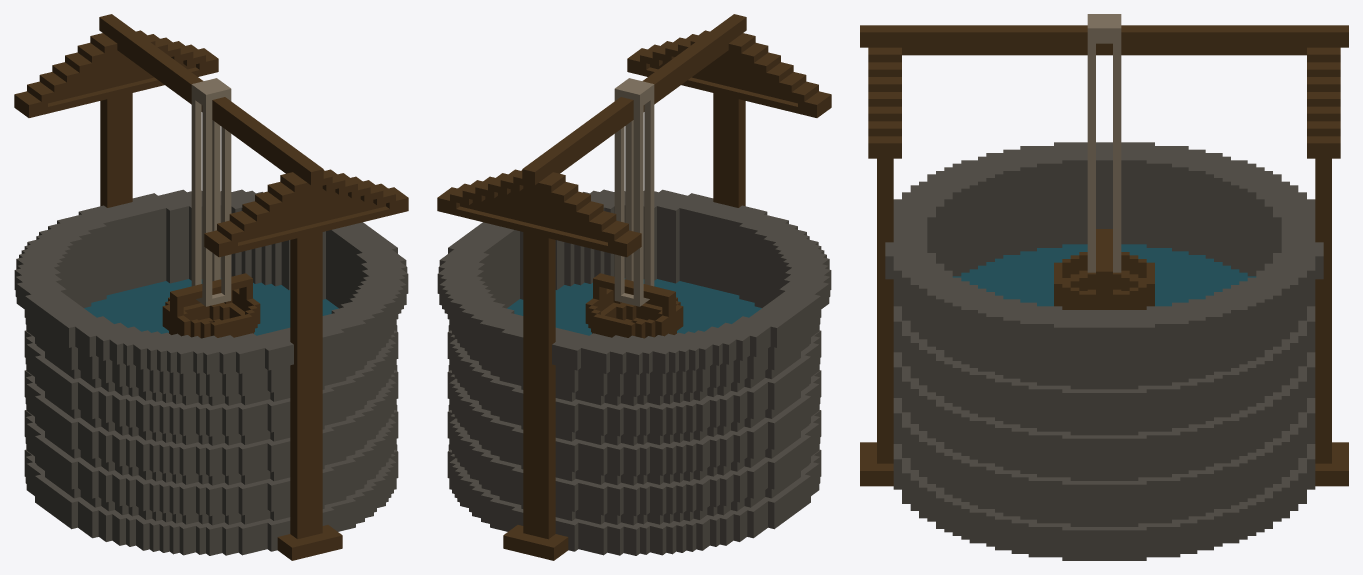
File: Korean_item_07.FBX
3 renders of one model, left to right at view 1: azimuth 30°, elevation 25°; view 2: azimuth 150°, elevation 25°; view 3: azimuth 270°, elevation 25°, orthographic. The views are drawn at different scales.
Visible parts, largest first — view 1: Voxel_Korean_traditional village-17; view 2: Voxel_Korean_traditional village-17; view 3: Voxel_Korean_traditional village-17.
Part boxes in pixels (left/top/right/bottom): Voxel_Korean_traditional village-17: left=14, top=14, right=408, bottom=560; Voxel_Korean_traditional village-17: left=437, top=14, right=831, bottom=560; Voxel_Korean_traditional village-17: left=860, top=14, right=1348, bottom=560.
Size of the model in its own units: 51.99 by 58.99 by 57.99.
1 material, 1 textured.
